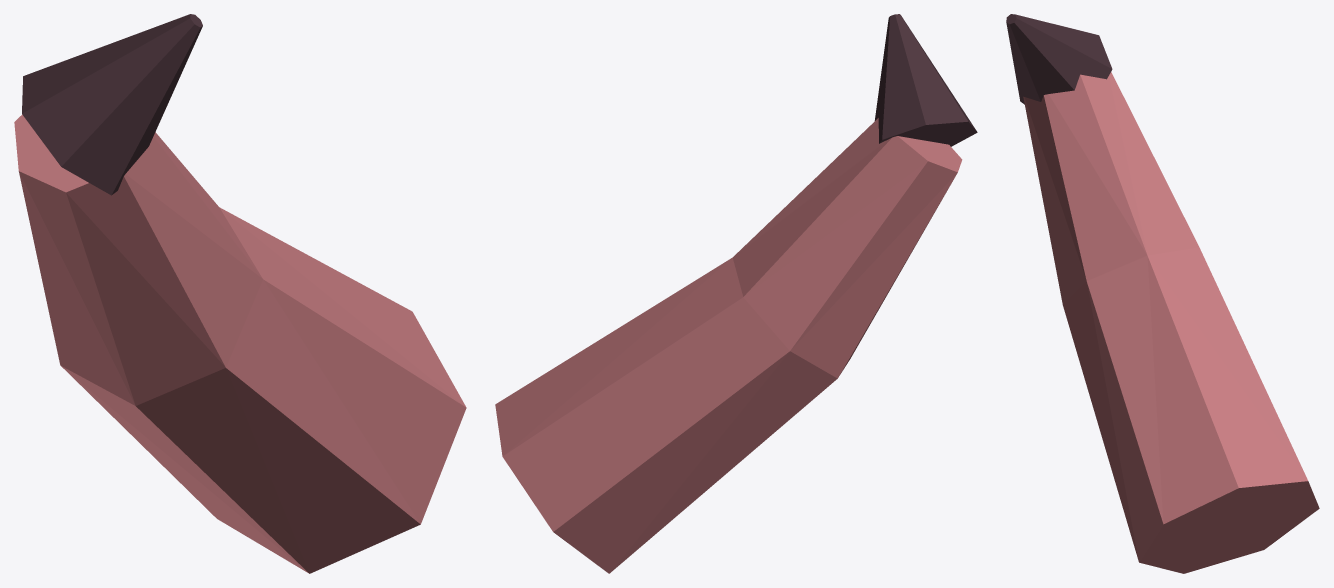
File: bulbfreak_appendage_3.obj
The picture shows the model from 3 angles, left to right: view 1: azimuth 30°, elevation 25°; view 2: azimuth 150°, elevation 25°; view 3: azimuth 270°, elevation 25°; orthographic projection. The views are drawn at different scales.
Parts seen in each view (by area): view 1: bulbfreak_appendage_3; view 2: bulbfreak_appendage_3; view 3: bulbfreak_appendage_3.
Boxes of the visible parts, x1,y1,x2,y2 form: bulbfreak_appendage_3: [14, 14, 466, 573]; bulbfreak_appendage_3: [495, 14, 977, 573]; bulbfreak_appendage_3: [1006, 14, 1319, 573].
Bounding box in the file's own units: 0.606 × 0.7872 × 0.4667.
